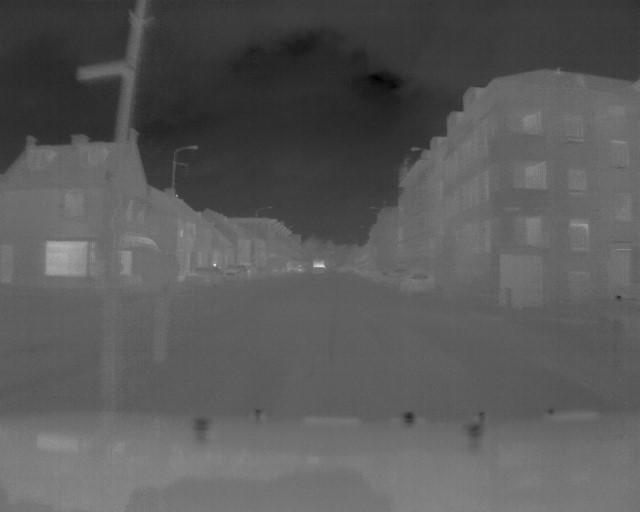car: (401, 268, 437, 297), (191, 267, 228, 289), (226, 264, 250, 281)
